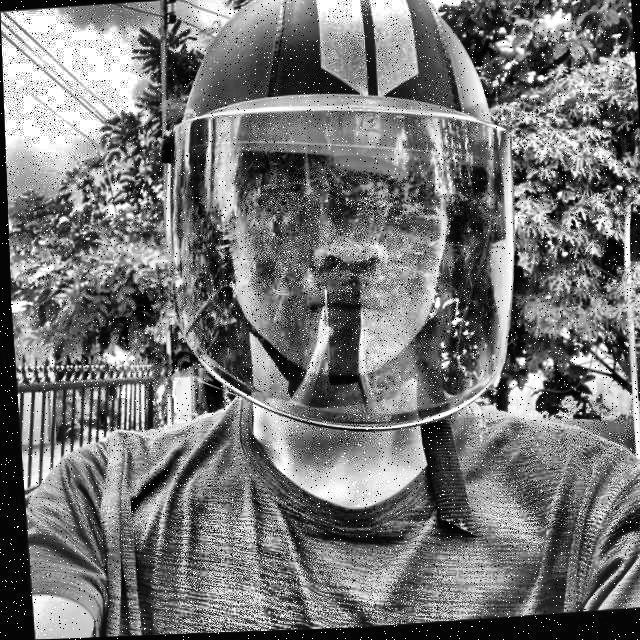Helmet: (141, 0, 536, 460)
